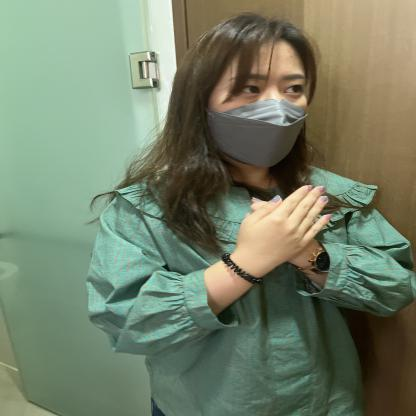Grieve: (127, 140, 415, 341)
